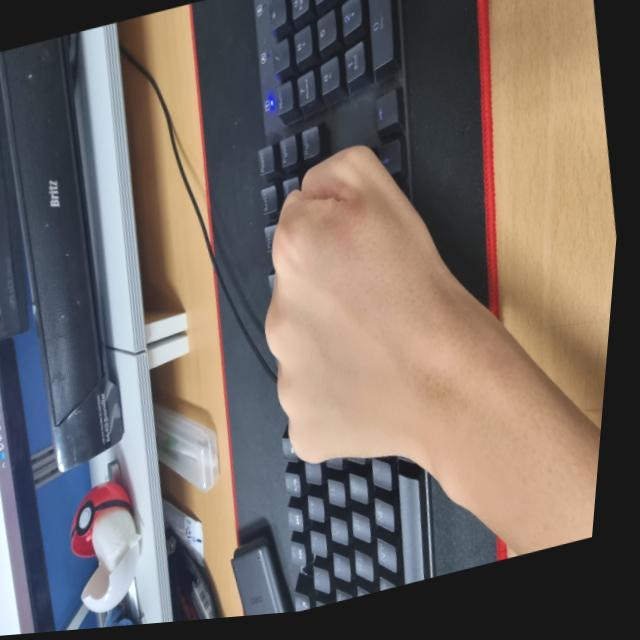keyboard-with-hands: (254, 0, 432, 613)
